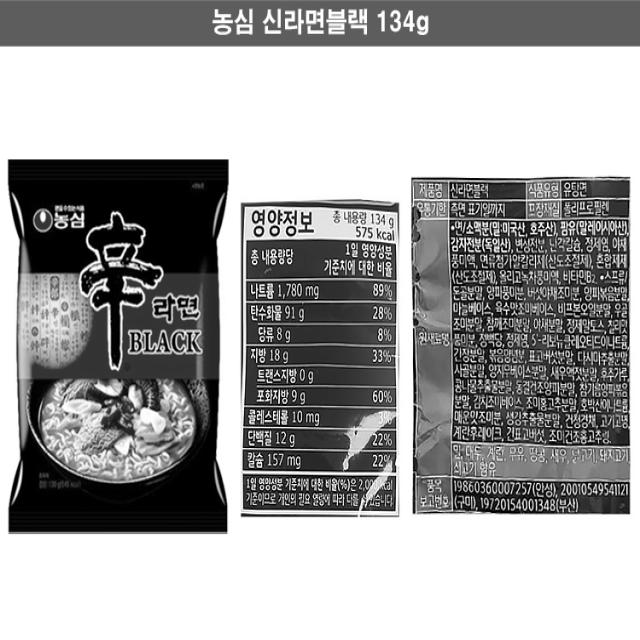Nutrition Label: (240, 194, 410, 540)
